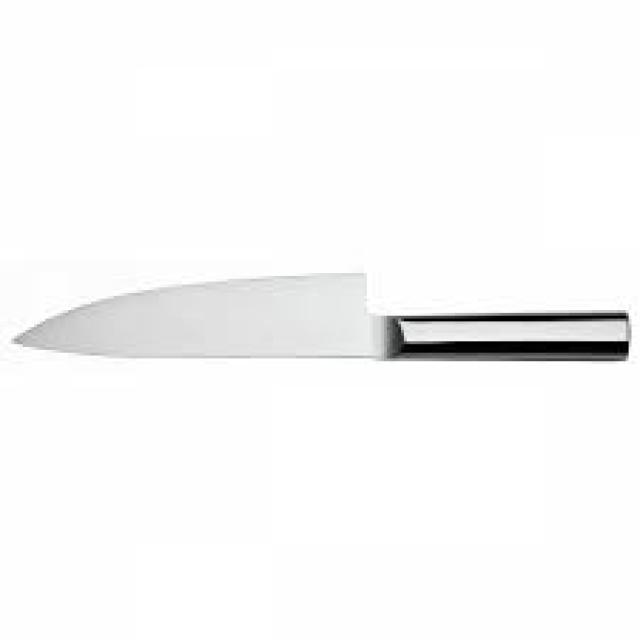knife: (9, 257, 639, 361)
